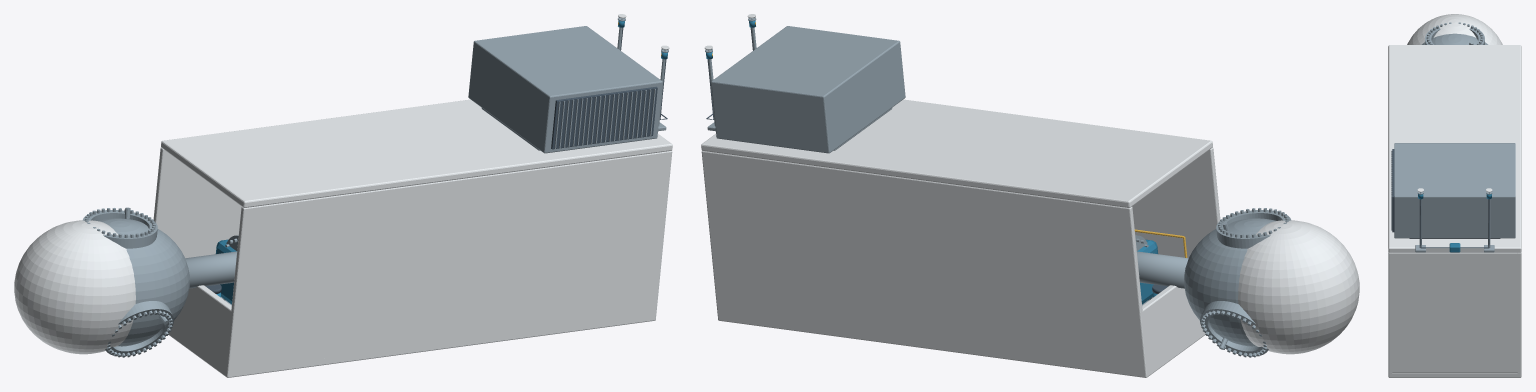
Rendered from V90_nacelle.glb.
The picture shows the model from 3 angles, left to right: view 1: azimuth 30°, elevation 25°; view 2: azimuth 150°, elevation 25°; view 3: azimuth 270°, elevation 25°; orthographic projection. The views are drawn at different scales.
Parts seen in each view (by area): view 1: COVER.SIDE.PORT | 机舱侧罩, COVER.ROOF | 可隐藏机舱顶罩, COOL.FRAME | CoolerTop顶部冷却器框架, ROTOR.SPINNER | 轮毂导流罩, COVER.SIDE.STARBOARD | 机舱侧罩, ROTOR.HUB | 轮毂主体重建, COOL.RADIATOR | 顶部换热面, COVER.FLOOR | 机舱底部壳体, COVER.FRONT | 机舱前部下罩, DRIVE.SHAFT | 低速主轴, PITCH.BEARING.2 | 叶片2变桨轴承, PITCH.BEARING.1 | 叶片1变桨轴承 (+1 smaller); view 2: COVER.SIDE.STARBOARD | 机舱侧罩, COVER.ROOF | 可隐藏机舱顶罩, COOL.FRAME | CoolerTop顶部冷却器框架, ROTOR.SPINNER | 轮毂导流罩, COVER.SIDE.PORT | 机舱侧罩, ROTOR.HUB | 轮毂主体重建, COVER.FRONT | 机舱前部下罩, COVER.FLOOR | 机舱底部壳体, DRIVE.SHAFT | 低速主轴, PITCH.BEARING.3 | 叶片3变桨轴承, PITCH.BEARING.1 | 叶片1变桨轴承, COVER.REAR | 机舱后罩; view 3: COVER.REAR | 机舱后罩, COVER.ROOF | 可隐藏机舱顶罩, COOL.FRAME | CoolerTop顶部冷却器框架, ROTOR.SPINNER | 轮毂导流罩, COVER.FLOOR | 机舱底部壳体, ROTOR.HUB | 轮毂主体重建, COVER.SIDE.PORT | 机舱侧罩, COVER.SIDE.STARBOARD | 机舱侧罩, COOL.RADIATOR | 顶部换热面, PITCH.BEARING.1 | 叶片1变桨轴承, PITCH.BOLTS.1 | 叶根螺栓组1, SENSOR.CABLE.1 | 测风装置1供电与信号线示意 (+3 smaller).
Part boxes in pixels (box(x1,y1,x2,y2)): COVER.SIDE.PORT | 机舱侧罩: box(225, 150, 672, 373); COVER.ROOF | 可隐藏机舱顶罩: box(161, 99, 672, 207); COOL.FRAME | CoolerTop顶部冷却器框架: box(468, 26, 662, 153); ROTOR.SPINNER | 轮毂导流罩: box(14, 220, 135, 354); COVER.SIDE.STARBOARD | 机舱侧罩: box(153, 147, 241, 258); ROTOR.HUB | 轮毂主体重建: box(98, 218, 189, 346); COOL.RADIATOR | 顶部换热面: box(551, 86, 657, 149); COVER.FLOOR | 机舱底部壳体: box(168, 314, 655, 377); COVER.FRONT | 机舱前部下罩: box(171, 285, 238, 372); DRIVE.SHAFT | 低速主轴: box(185, 251, 236, 288); PITCH.BEARING.2 | 叶片2变桨轴承: box(105, 301, 173, 356); PITCH.BEARING.1 | 叶片1变桨轴承: box(82, 210, 157, 248); COVER.SIDE.STARBOARD | 机舱侧罩: box(701, 150, 1148, 373); COVER.ROOF | 可隐藏机舱顶罩: box(701, 99, 1212, 207); COOL.FRAME | CoolerTop顶部冷却器框架: box(711, 26, 905, 153); ROTOR.SPINNER | 轮毂导流罩: box(1238, 220, 1359, 354); COVER.SIDE.PORT | 机舱侧罩: box(1132, 147, 1220, 258); ROTOR.HUB | 轮毂主体重建: box(1184, 218, 1275, 346); COVER.FRONT | 机舱前部下罩: box(1135, 285, 1202, 372); COVER.FLOOR | 机舱底部壳体: box(718, 314, 1205, 377); DRIVE.SHAFT | 低速主轴: box(1137, 251, 1188, 288); PITCH.BEARING.3 | 叶片3变桨轴承: box(1200, 301, 1268, 356); PITCH.BEARING.1 | 叶片1变桨轴承: box(1216, 210, 1291, 248); COVER.REAR | 机舱后罩: box(702, 152, 721, 313); COVER.REAR | 机舱后罩: box(1389, 252, 1520, 372); COVER.ROOF | 可隐藏机舱顶罩: box(1388, 45, 1521, 252); COOL.FRAME | CoolerTop顶部冷却器框架: box(1394, 143, 1515, 238); ROTOR.SPINNER | 轮毂导流罩: box(1407, 14, 1502, 44); COVER.FLOOR | 机舱底部壳体: box(1388, 373, 1521, 377); ROTOR.HUB | 轮毂主体重建: box(1421, 33, 1488, 44); COVER.SIDE.PORT | 机舱侧罩: box(1388, 252, 1392, 374); COVER.SIDE.STARBOARD | 机舱侧罩: box(1517, 252, 1521, 374); COOL.RADIATOR | 顶部换热面: box(1392, 149, 1394, 232); PITCH.BEARING.1 | 叶片1变桨轴承: box(1425, 27, 1484, 44); PITCH.BOLTS.1 | 叶根螺栓组1: box(1426, 22, 1483, 44); SENSOR.CABLE.1 | 测风装置1供电与信号线示意: box(1460, 199, 1489, 248).
Bounding box in the file's own units: 15.14 × 5.81 × 3.5.
